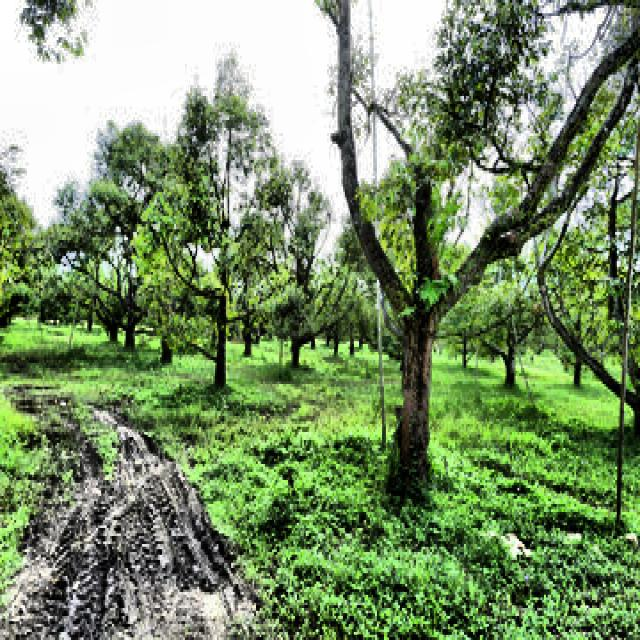arvore: (378, 198, 453, 508), (200, 218, 236, 413), (112, 224, 148, 366), (153, 260, 181, 373), (286, 263, 310, 382), (501, 287, 524, 403), (241, 260, 257, 362)
